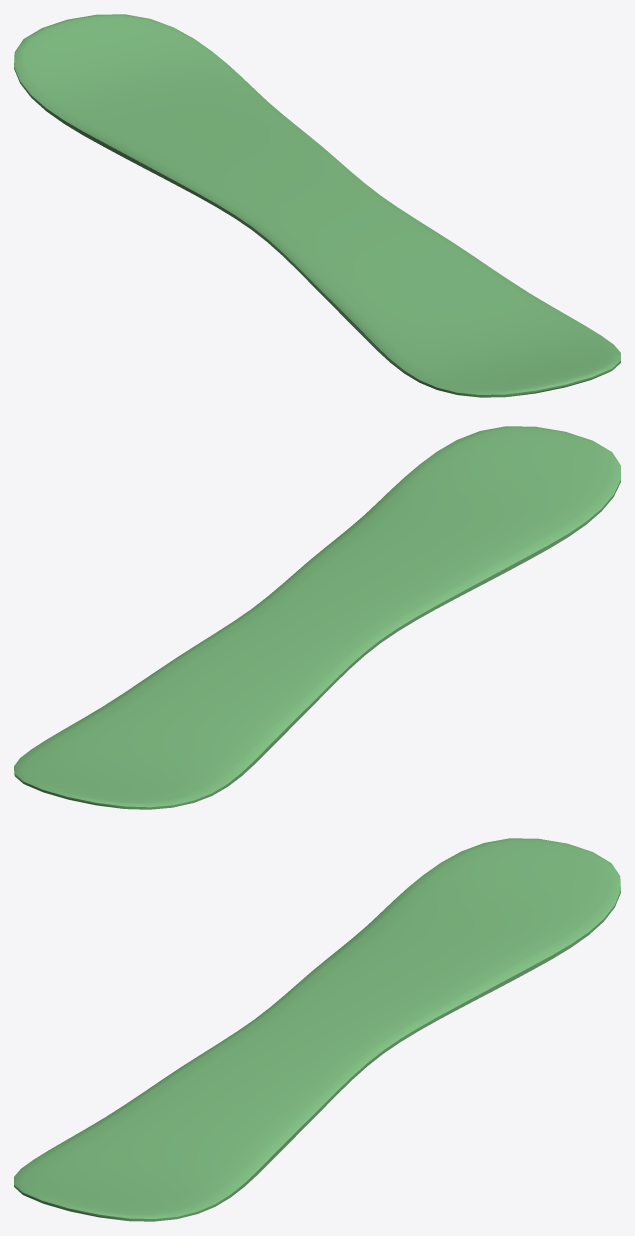
3 views of the same model, one above another, from view 1: azimuth 30°, elevation 25°; view 2: azimuth 150°, elevation 25°; view 3: azimuth 330°, elevation 25° (orthographic).
Visible parts, largest first — view 1: Object_7; view 2: Object_7; view 3: Object_7.
Boxes of the visible parts, x1,y1,x2,y2 form: Object_7: (14,14,620,397); Object_7: (14,426,620,809); Object_7: (14,838,620,1221).
Bounding box in the file's own units: 0.2107 × 0.0303 × 1.
